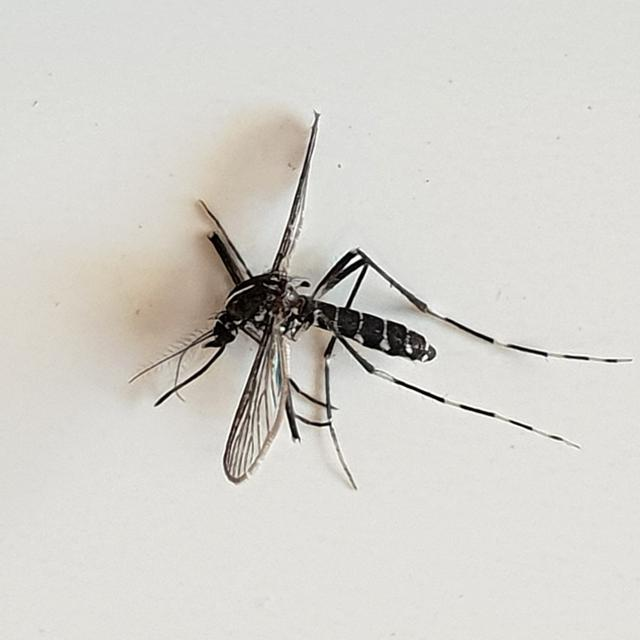albopictus: (128, 104, 609, 515)
